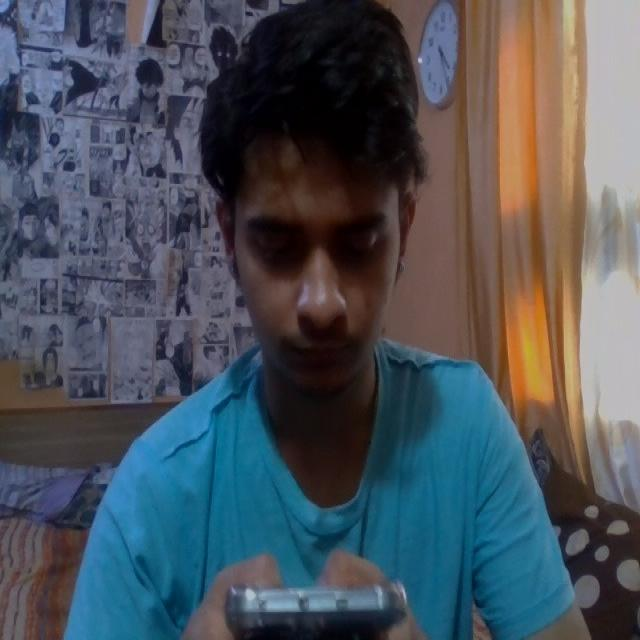phone: (222, 591, 415, 634)
using-phone: (81, 8, 592, 640)
